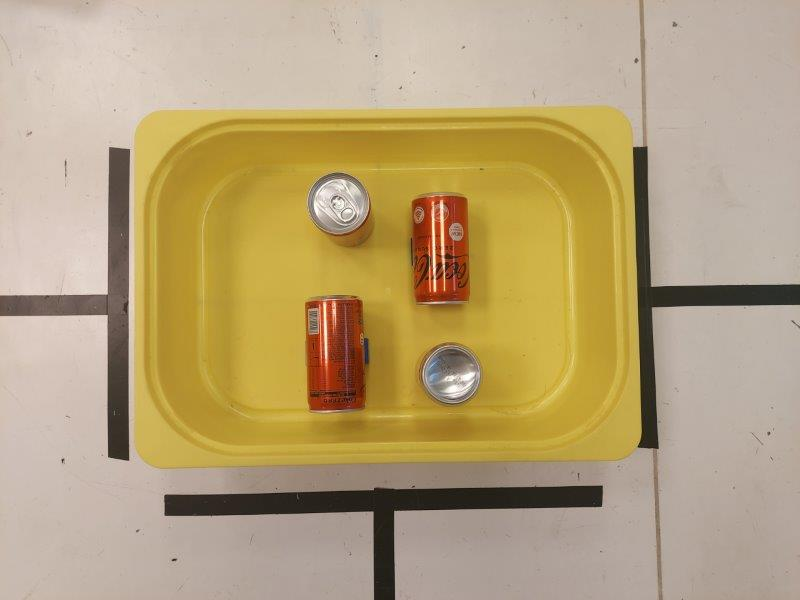Coke: (304, 296, 367, 412), (413, 191, 467, 304), (308, 172, 375, 246), (419, 341, 483, 405)
